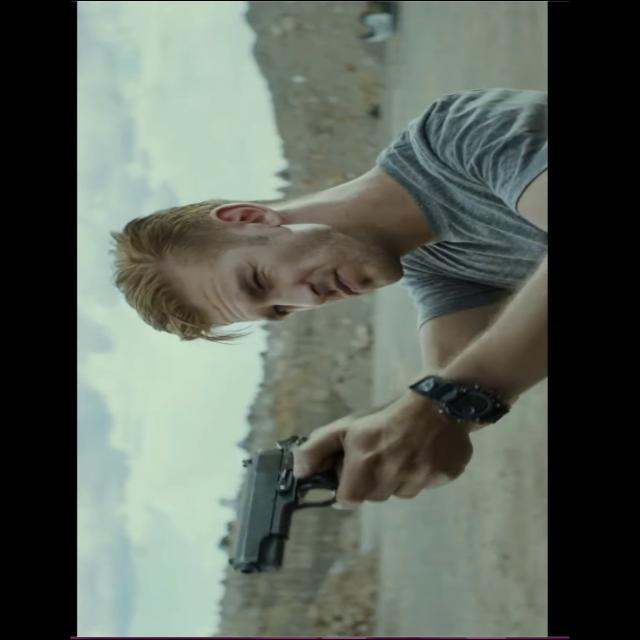weapons: (212, 426, 360, 584)
